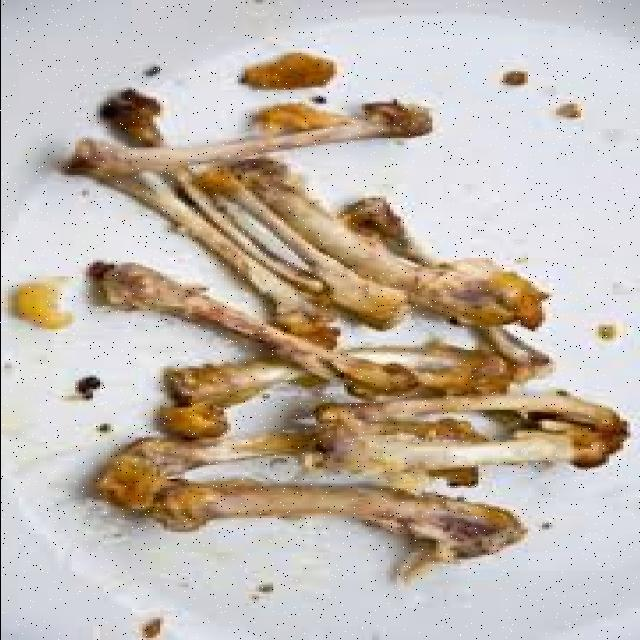Bones: (92, 170, 421, 396), (99, 394, 629, 509), (237, 163, 548, 327), (163, 479, 527, 580), (71, 99, 431, 175), (350, 343, 520, 398), (170, 359, 336, 403), (103, 90, 163, 145)
